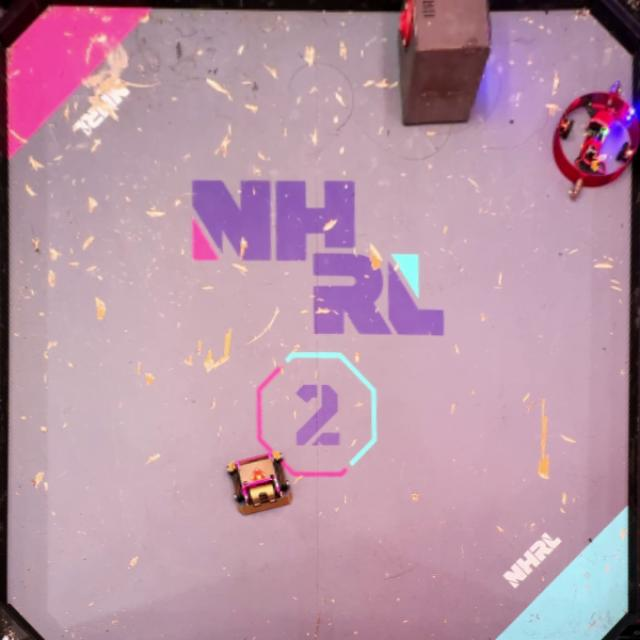housebot: (397, 0, 492, 124)
robot: (552, 80, 640, 200), (226, 450, 294, 515)
